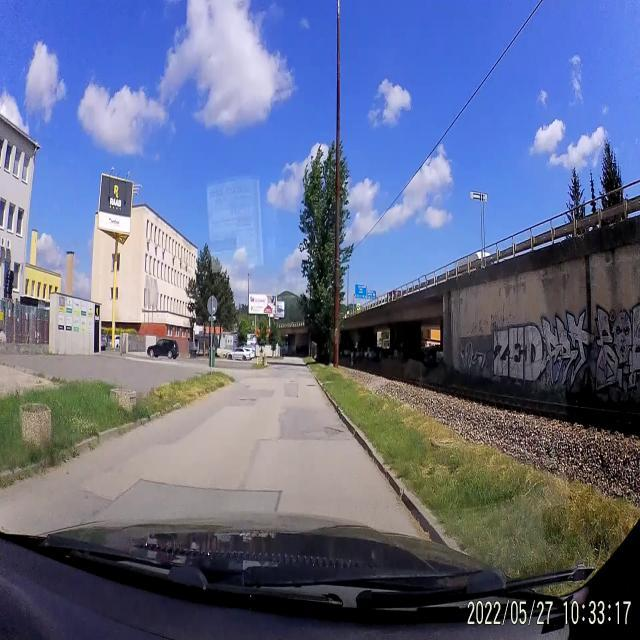Manhole: (305, 380, 318, 390)
Pothole: (302, 423, 342, 441), (238, 394, 259, 404)
